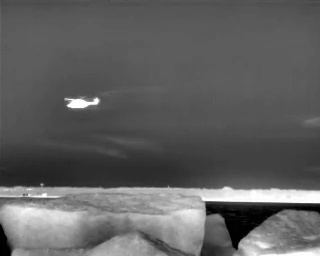HELICOPTER: (60, 91, 105, 114)
